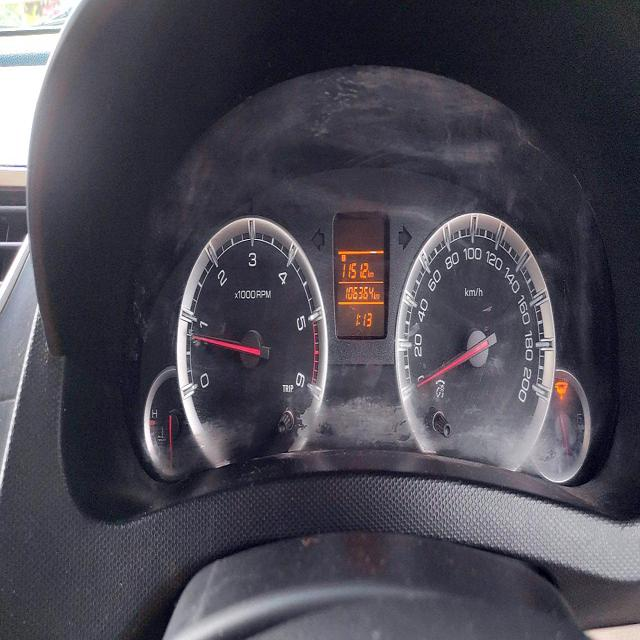odometer: (344, 282, 375, 302)
